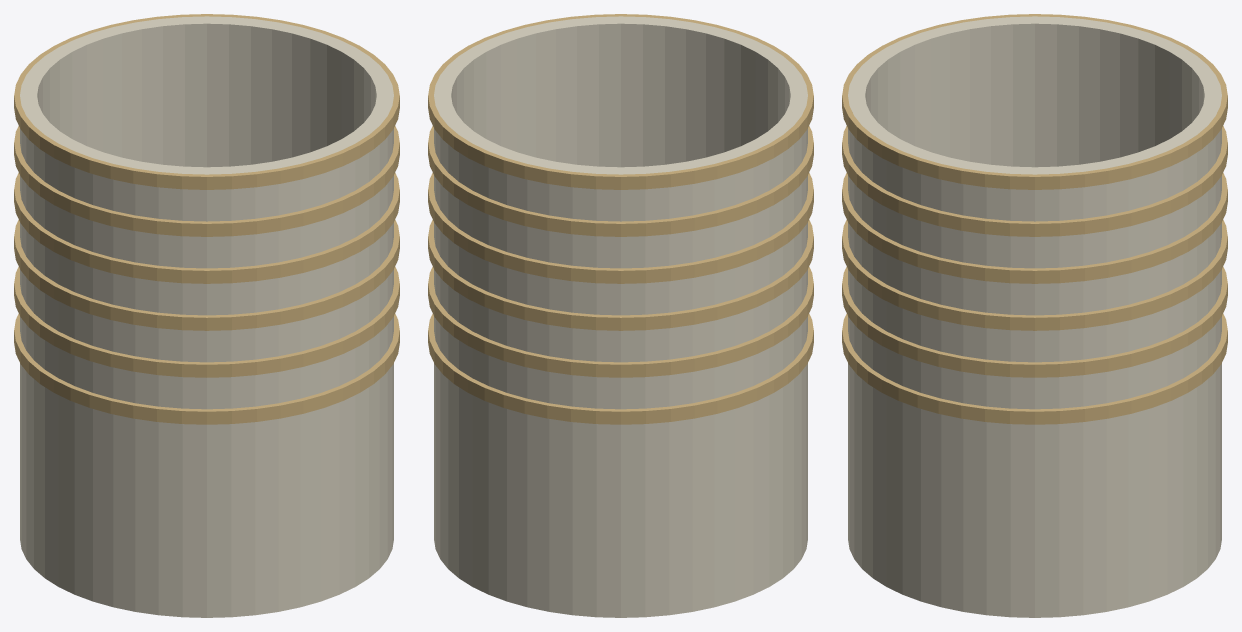
File: abandoned-cinema-and-projection-booth-abandoned-cinema-dd390c37__29726.glb
3 renders of one model, left to right at view 1: azimuth 30°, elevation 25°; view 2: azimuth 150°, elevation 25°; view 3: azimuth 270°, elevation 25°, orthographic.
Parts seen in each view (by area): view 1: abandoned-cinema-and-projection-booth-cup-stack; view 2: abandoned-cinema-and-projection-booth-cup-stack; view 3: abandoned-cinema-and-projection-booth-cup-stack.
Boxes of the visible parts, bbox=[...] form: abandoned-cinema-and-projection-booth-cup-stack: bbox=[14, 14, 399, 617]; abandoned-cinema-and-projection-booth-cup-stack: bbox=[428, 14, 813, 617]; abandoned-cinema-and-projection-booth-cup-stack: bbox=[842, 14, 1227, 617].
Size of the model in its own units: 0.134 by 0.17 by 0.134.
